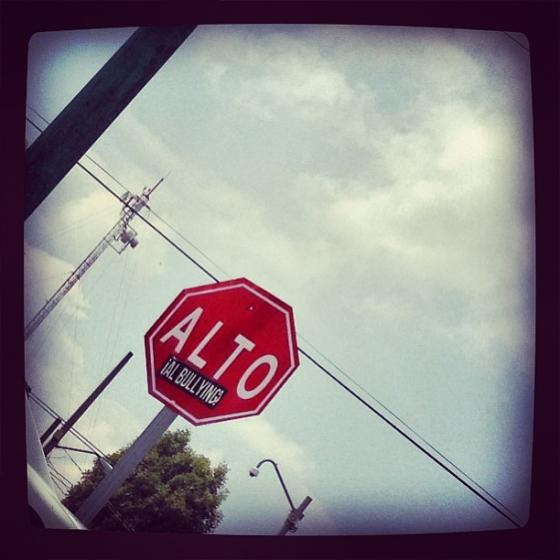stop sign: (149, 277, 300, 426)
